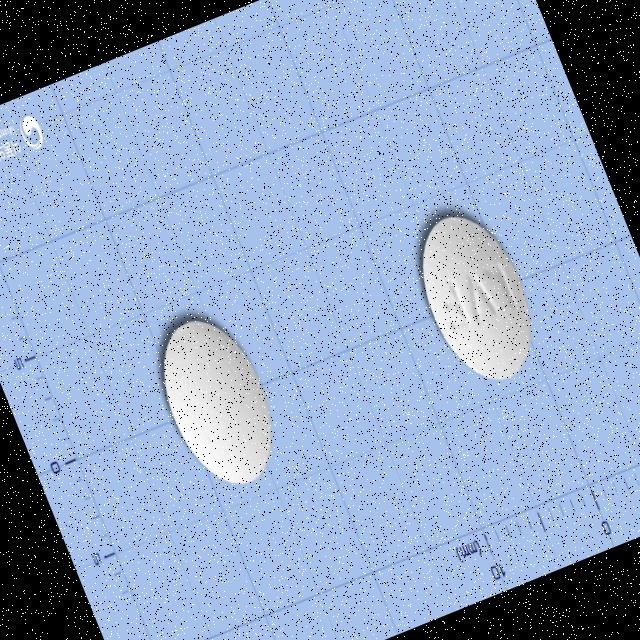Levo-F: (400, 198, 552, 396), (141, 306, 294, 502)
